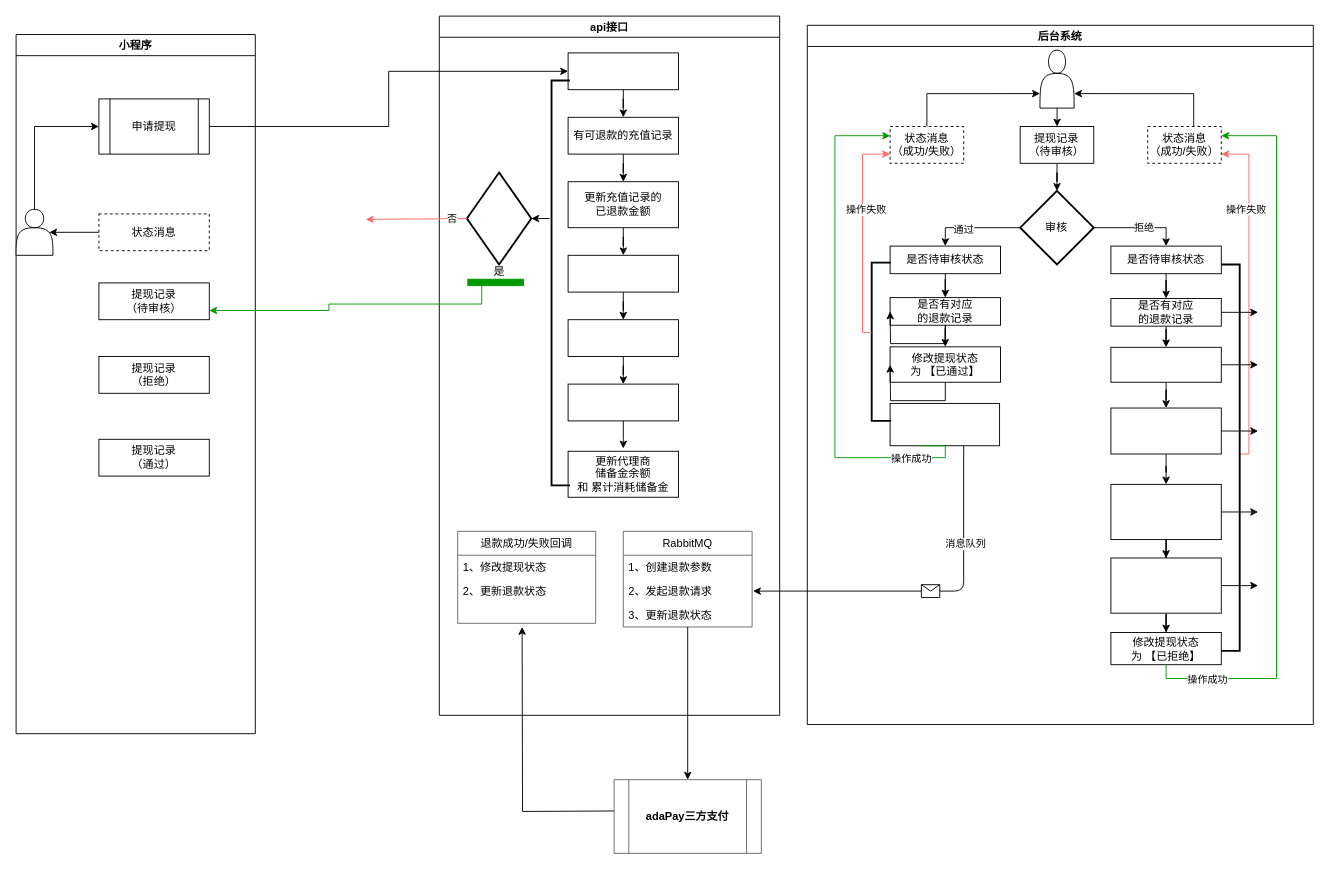
The diagram is 1329 pixels wide and 869 high, and some of its shapes have lost their labels. The centre of each missing label's shape, as x and y in pixels:
代理商: the point at 34,231
储备金余额充足: the point at 622,71
删除 商家储备金明细表 中的提现记录: the point at 1165,511
发送消息队列 (通知退款): the point at 944,424
恢复代理商 储备金余额 和 累计消耗储备金: the point at 1165,585
新增提现记录: the point at 622,273
条件成立: the point at 499,218
添加储备金明细记录: the point at 622,402
添加汇付退款记录: the point at 622,337
运营 人员: the point at 1056,78
退款记录和 返还记录是否一致: the point at 1165,364
退还 储备金充值记录的 退款金额: the point at 1165,430
